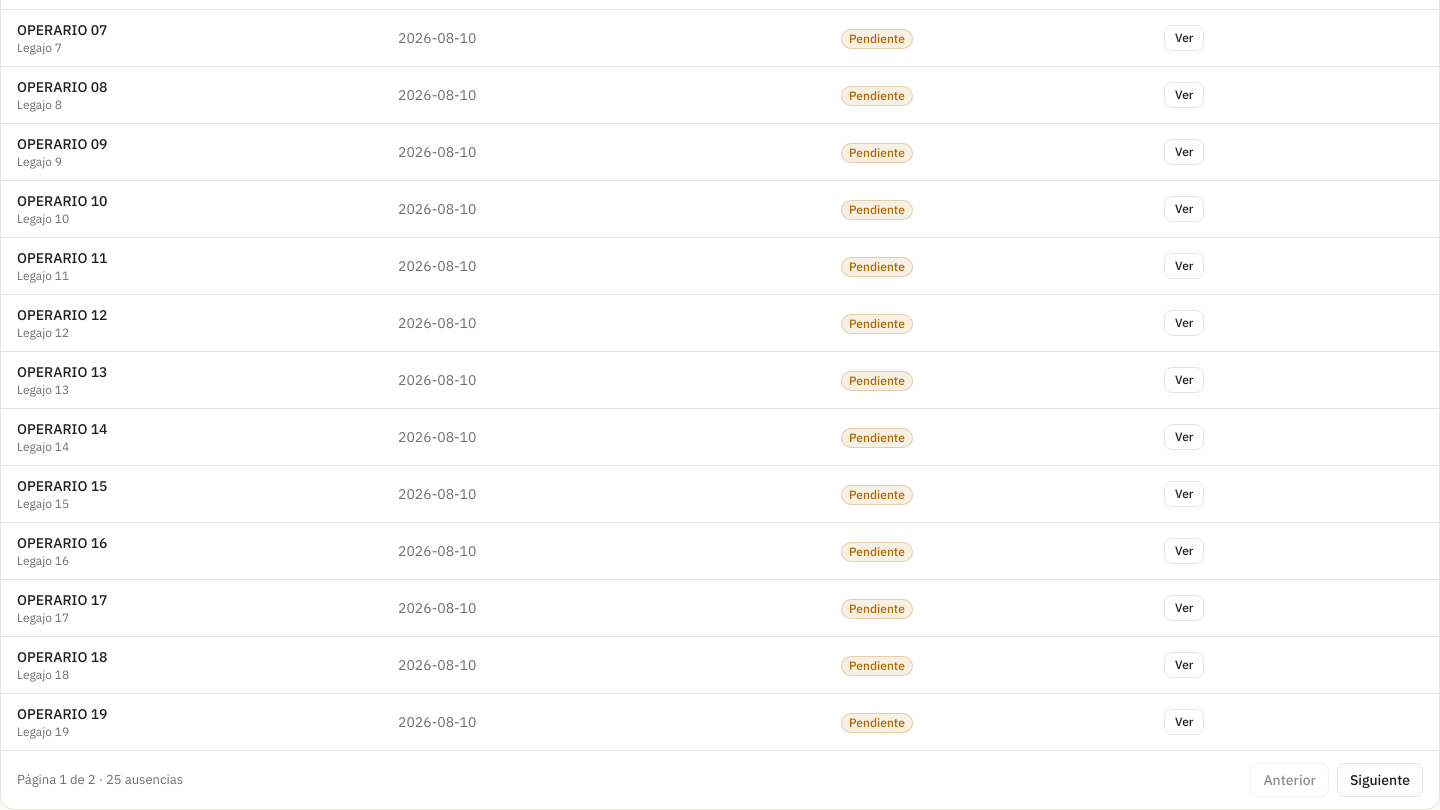
Test: AusenciasPage › paginación (20 por página, pedido 2026-09-03) › con 25 pendientes muestra 20 filas y el pie "Página 1 de 2 · 25 ausencias"; Siguiente muestra las 5 restantes
(page scrolled)
Expected: the text "OPERARIO 19" is shown, [17,705,108,723]
Expected: the text "OPERARIO 20" is not shown
Click the button "Siguiente". click: x=1380, y=780
box: [1337,763,1423,797]
(page scrolled)
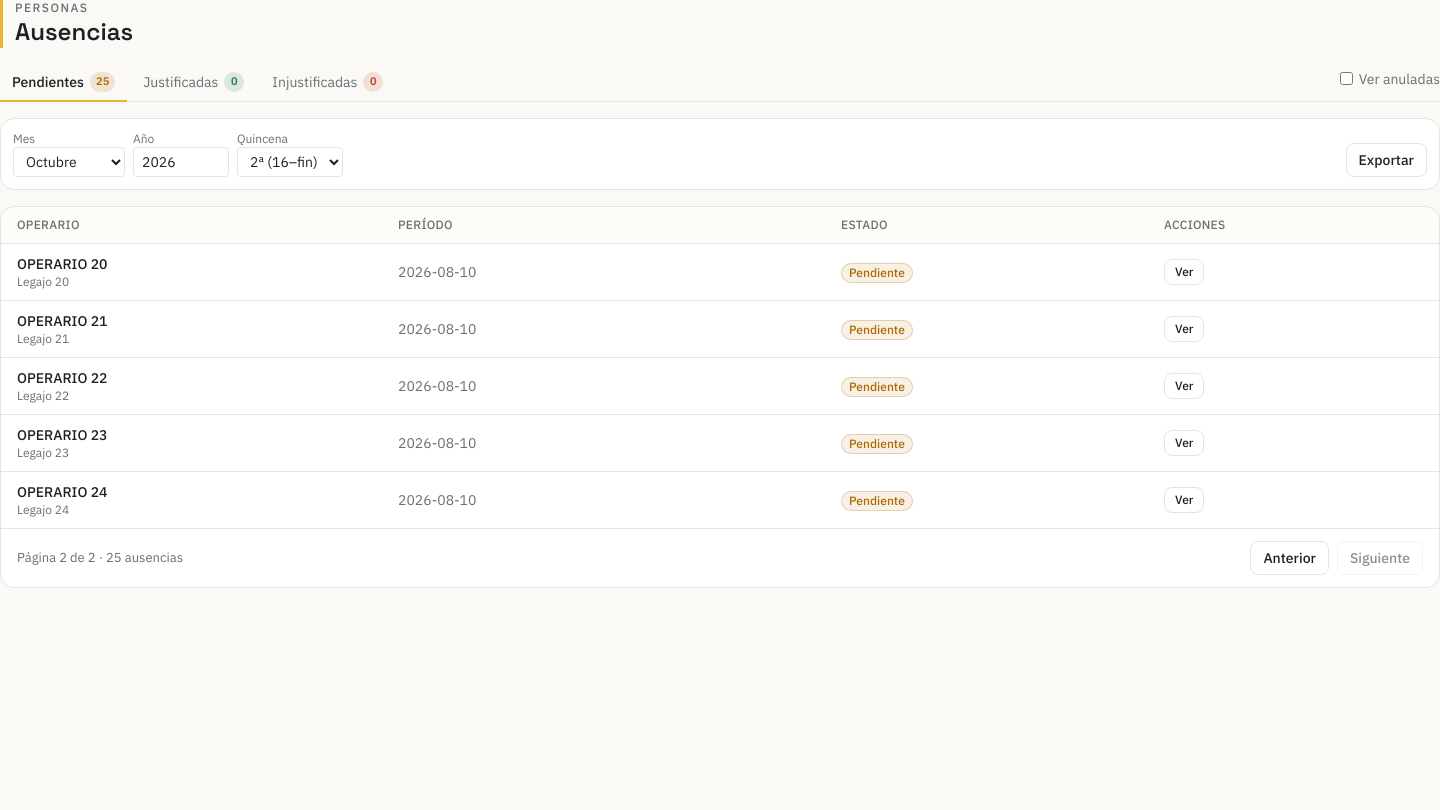
Expected: the text "OPERARIO 20" is shown, [17,255,108,273]
Expected: the text "OPERARIO 24" is shown, [17,483,108,501]
Expected: the text "Página 2 de 2 · 25 ausencias" is shown, [17,548,183,568]
